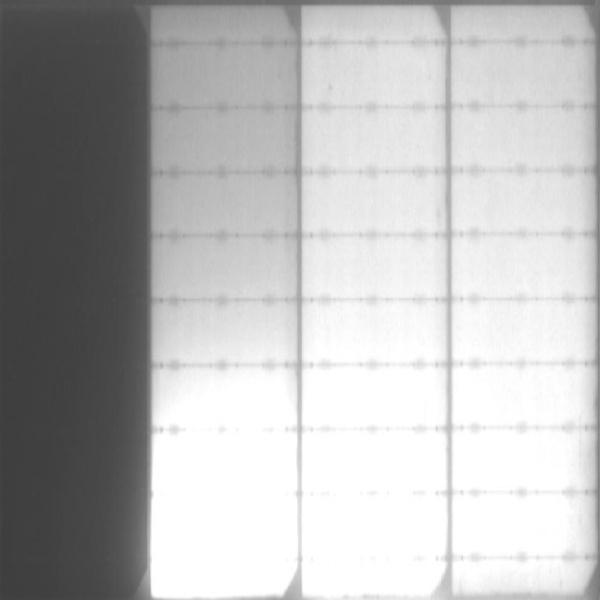hot_spot: (310, 436, 437, 596), (153, 437, 284, 585), (156, 372, 287, 425), (306, 372, 438, 424), (458, 428, 572, 487), (456, 368, 570, 423), (462, 499, 576, 553), (306, 316, 436, 359), (463, 561, 577, 592)
no_electricity: (2, 2, 149, 598)
